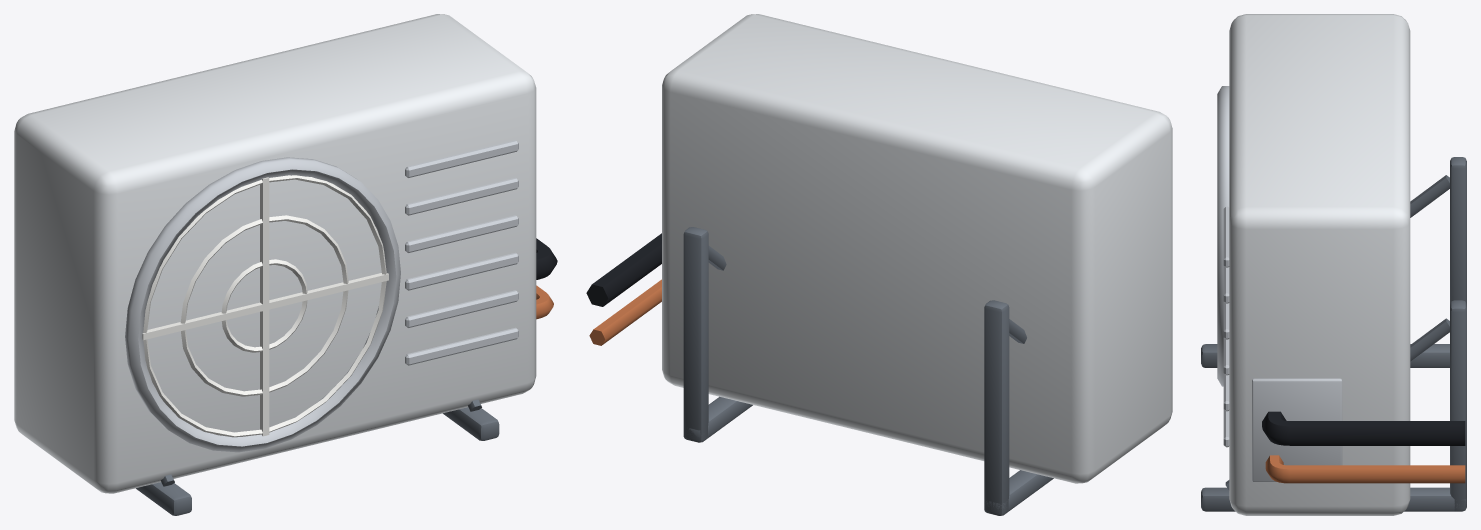
Rendered from condensadora_parede.glb.
3 views of the same model, side by side, from view 1: azimuth 30°, elevation 25°; view 2: azimuth 150°, elevation 25°; view 3: azimuth 270°, elevation 25° (orthographic). The views are drawn at different scales.
Parts seen in each view (by area): view 1: condensadora_parede; view 2: condensadora_parede; view 3: condensadora_parede.
Part boxes in pixels (<box>): condensadora_parede: <box>14,14,557,515</box>; condensadora_parede: <box>586,14,1172,515</box>; condensadora_parede: <box>1201,14,1466,515</box>.
Size of the model in its own units: 0.942 by 0.635 by 0.47.
Materials: 1 (1 with a texture image).
